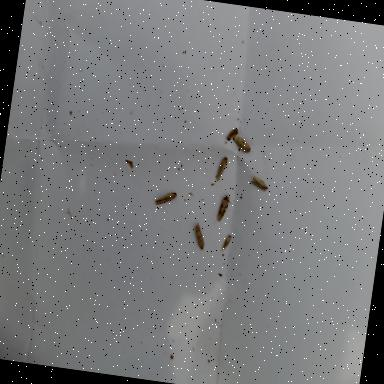pbw: (214, 191, 233, 224), (192, 222, 208, 250), (230, 134, 252, 154), (154, 190, 178, 208), (214, 154, 228, 182), (248, 175, 270, 192), (226, 126, 240, 142), (222, 234, 232, 252)
